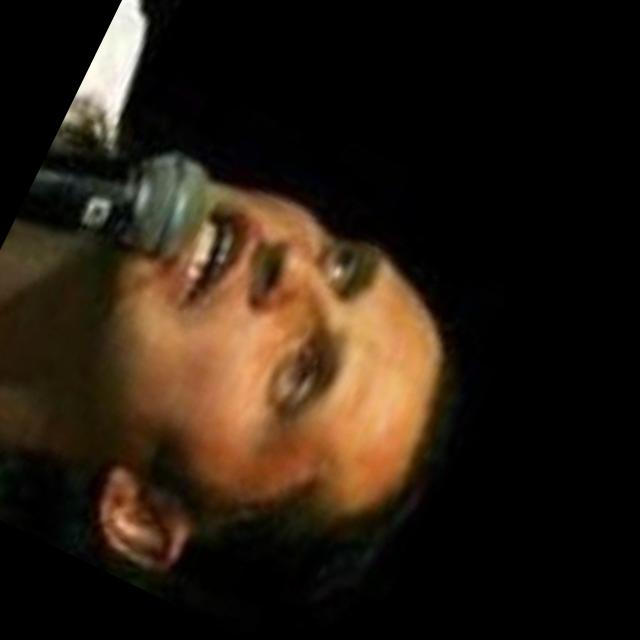bareface: (47, 148, 516, 604)
